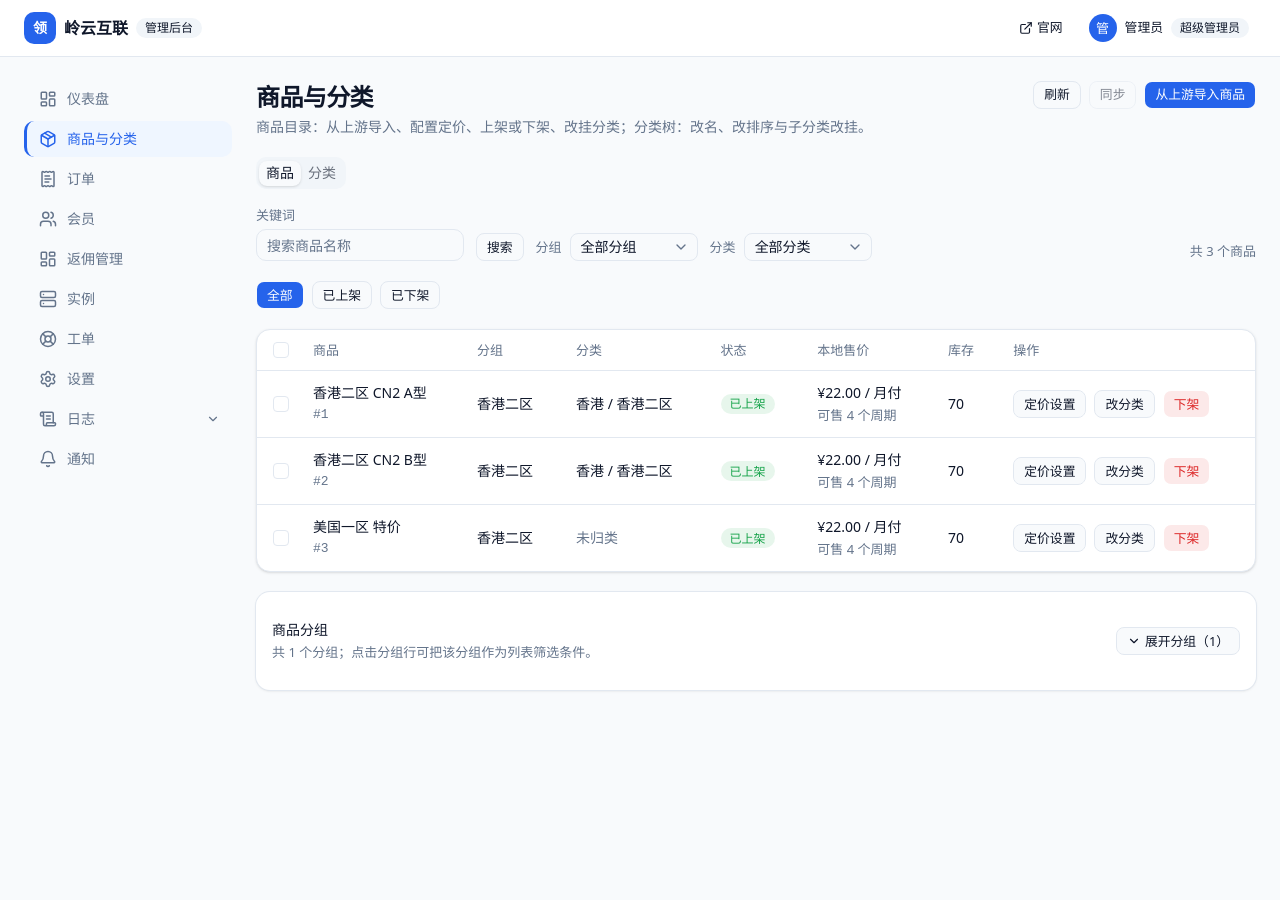
Test case: 管理后台 · 商品同步（R20） › 失败项全部失败时不谎报成功，也不再刷新列表
The image size is (1280, 900).
Check: the heading "商品与分类" is shown, box [256,80,373,113]
Check: the text "香港二区 CN2 A型" is shown, box [313,383,445,403]
Click the checkbox named "选择商品 香港二区 CN2 A型" at [281, 404], box [273,396,289,412]
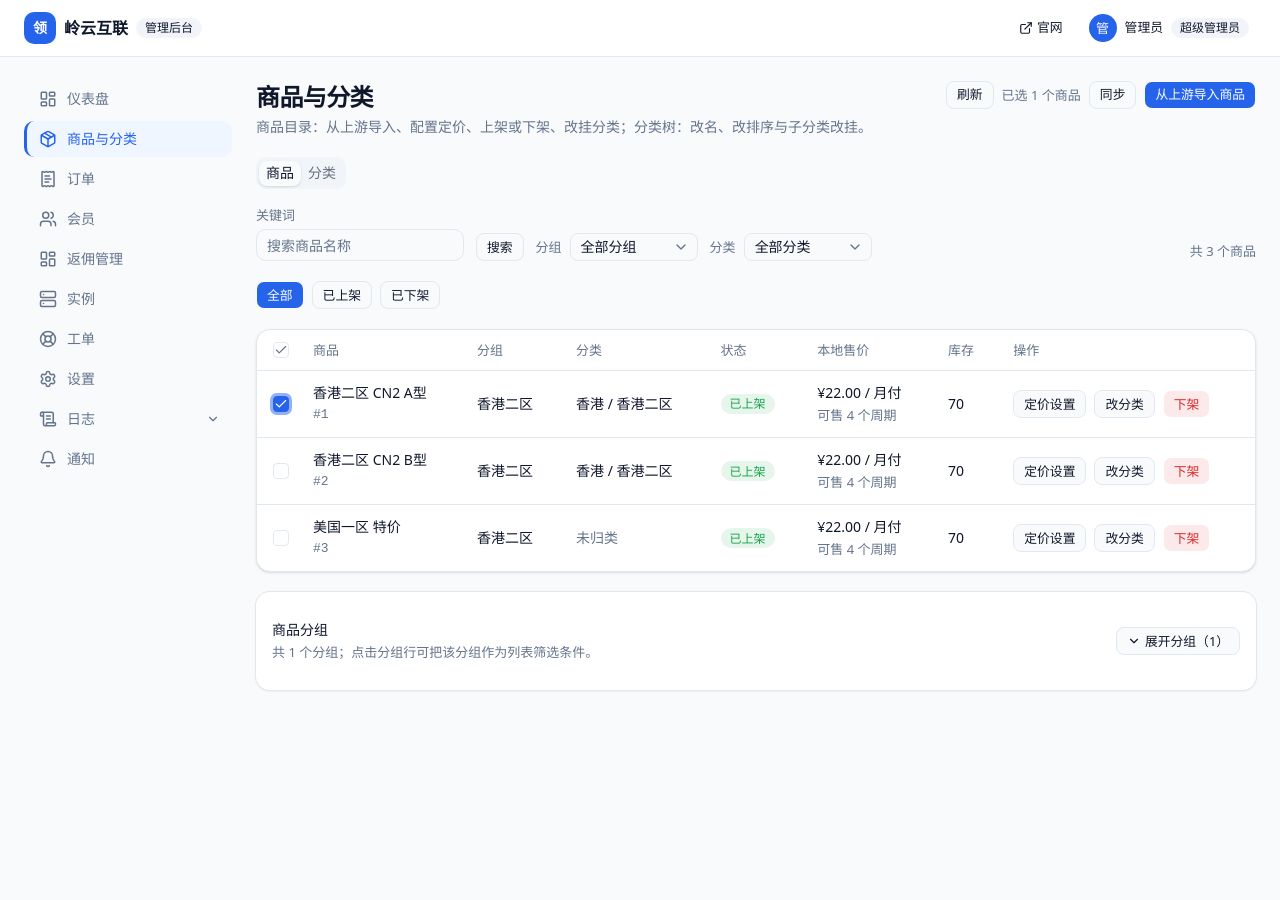
Click the button "同步" at [1113, 95], box [1089,81,1136,109]
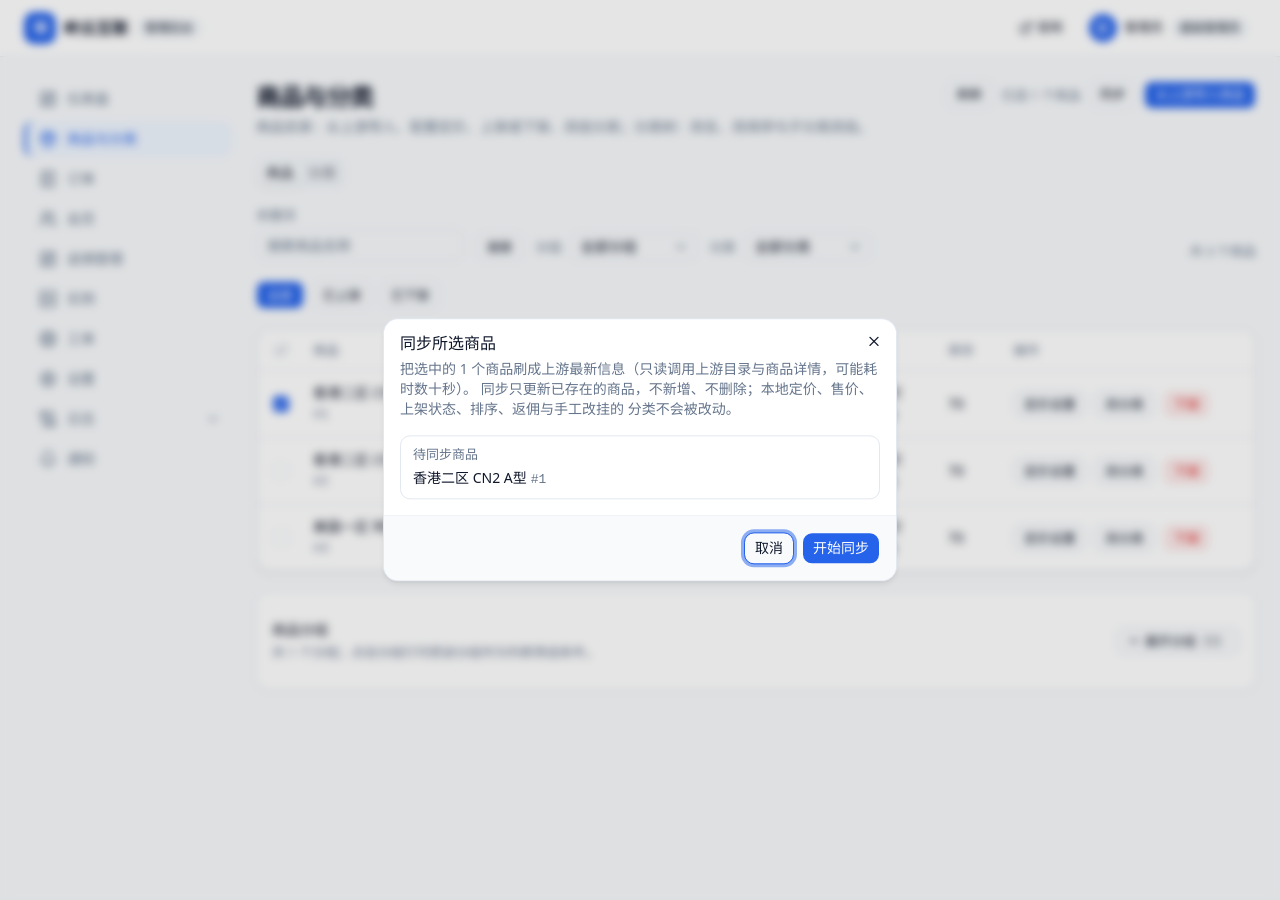
Check: the heading "同步所选商品" is shown, box [400,332,496,354]
Click the button "开始同步" at [841, 549], box [802,533,880,565]
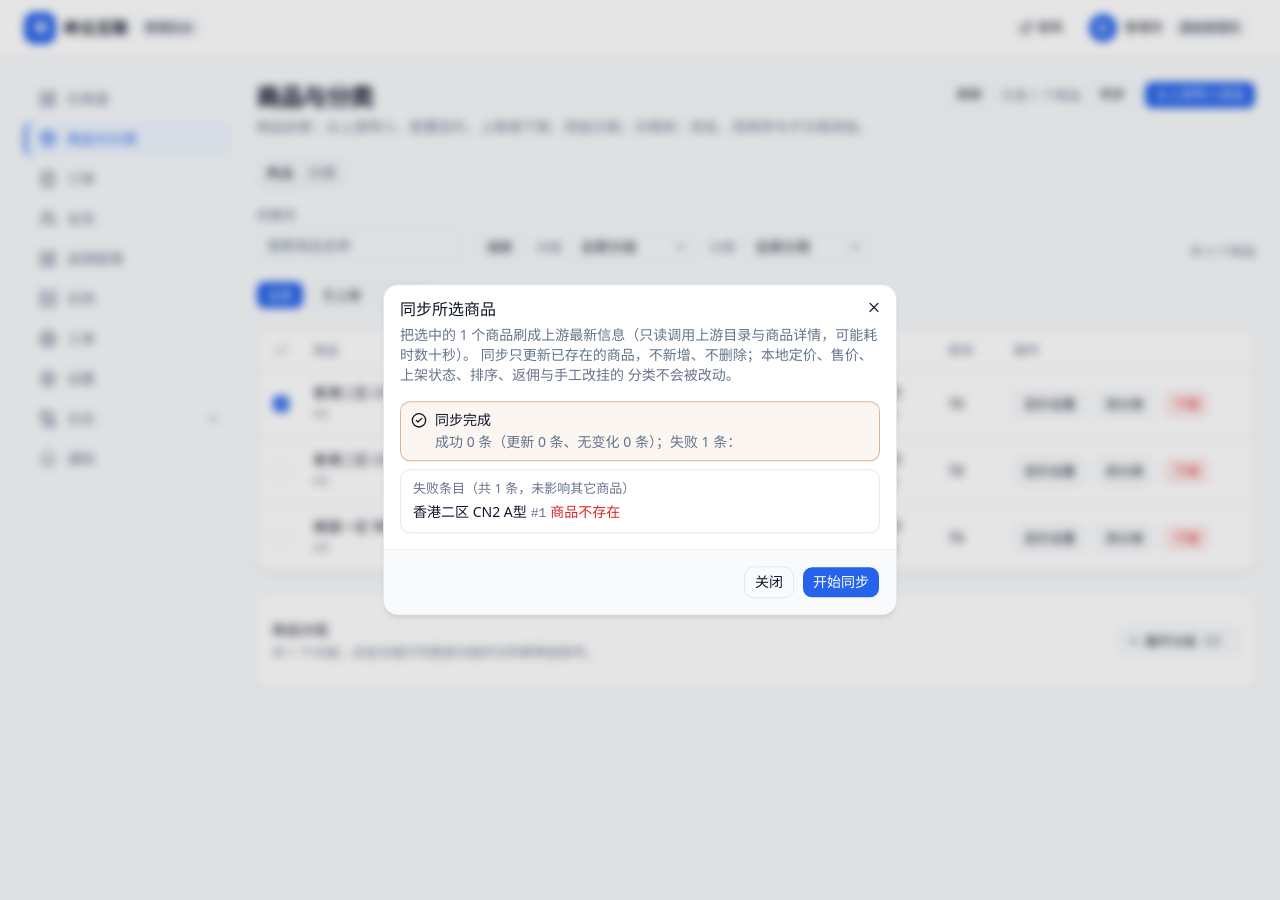
Check: the text "成功 0 条（更新 0 条、无变化 0 条）；失败 1 条：" is shown, box [435,432,741,451]
Check: the text "商品不存在" is shown, box [550,502,620,522]
